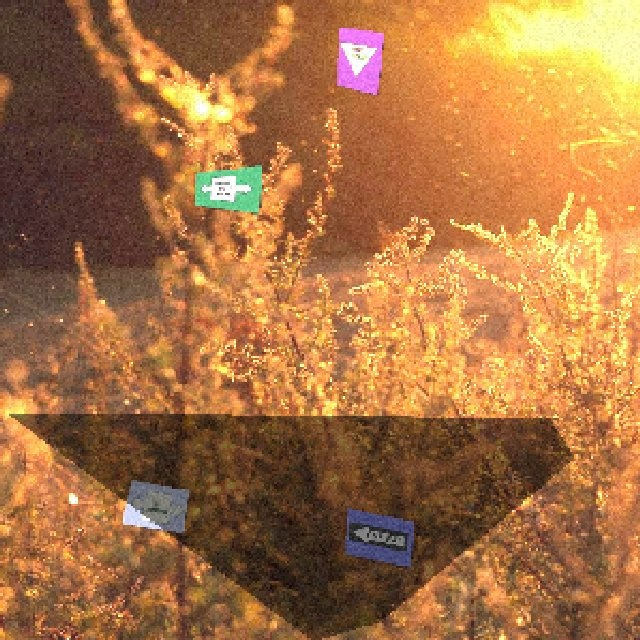DO_NOT_GO_AROUND: (198, 173, 253, 201)
GO_AROUND: (126, 486, 186, 525)
NOT_YIELD: (335, 39, 378, 80)
ONE_WAY_ left: (347, 520, 407, 550)
